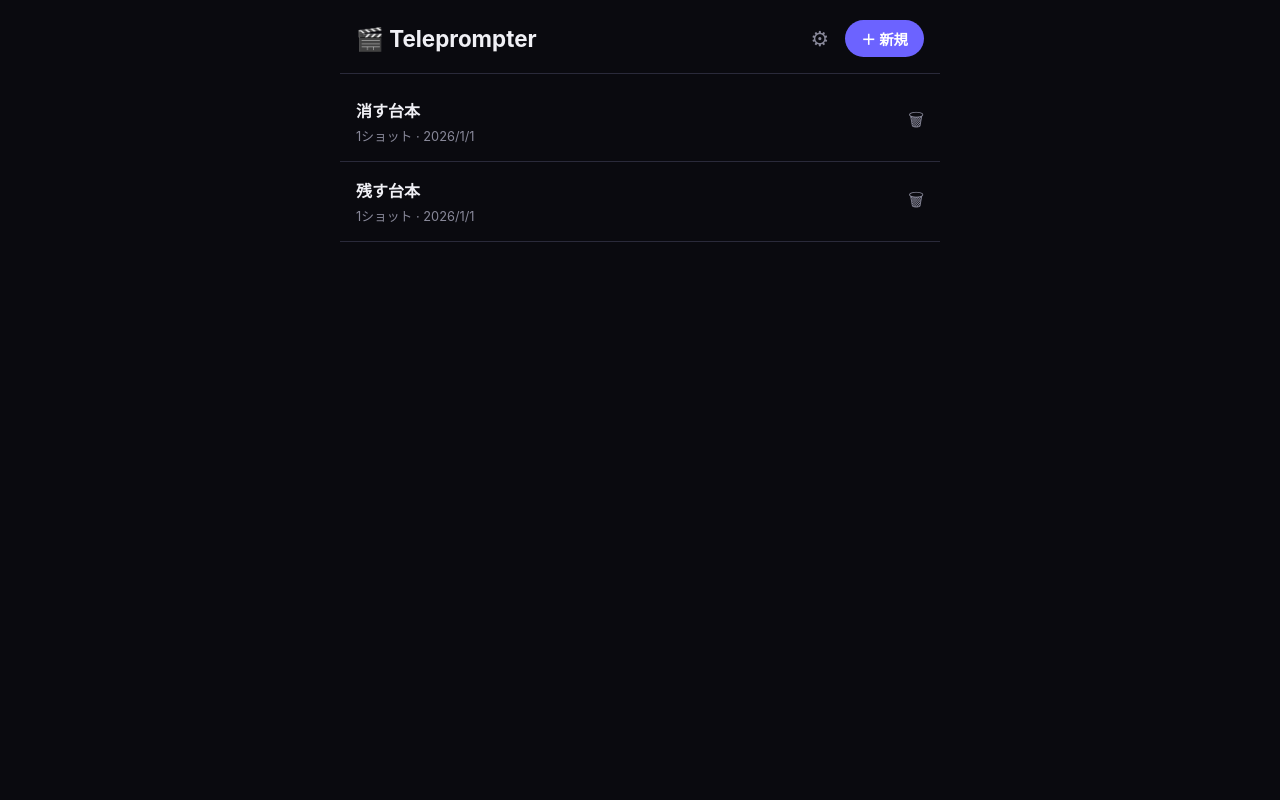
HomePage: deleting a script › takes the script off the list at once, with 元に戻す, and deletes nothing yet
Click the button named "削除" at {"x": 916, "y": 122}, box [892,90,940,152]
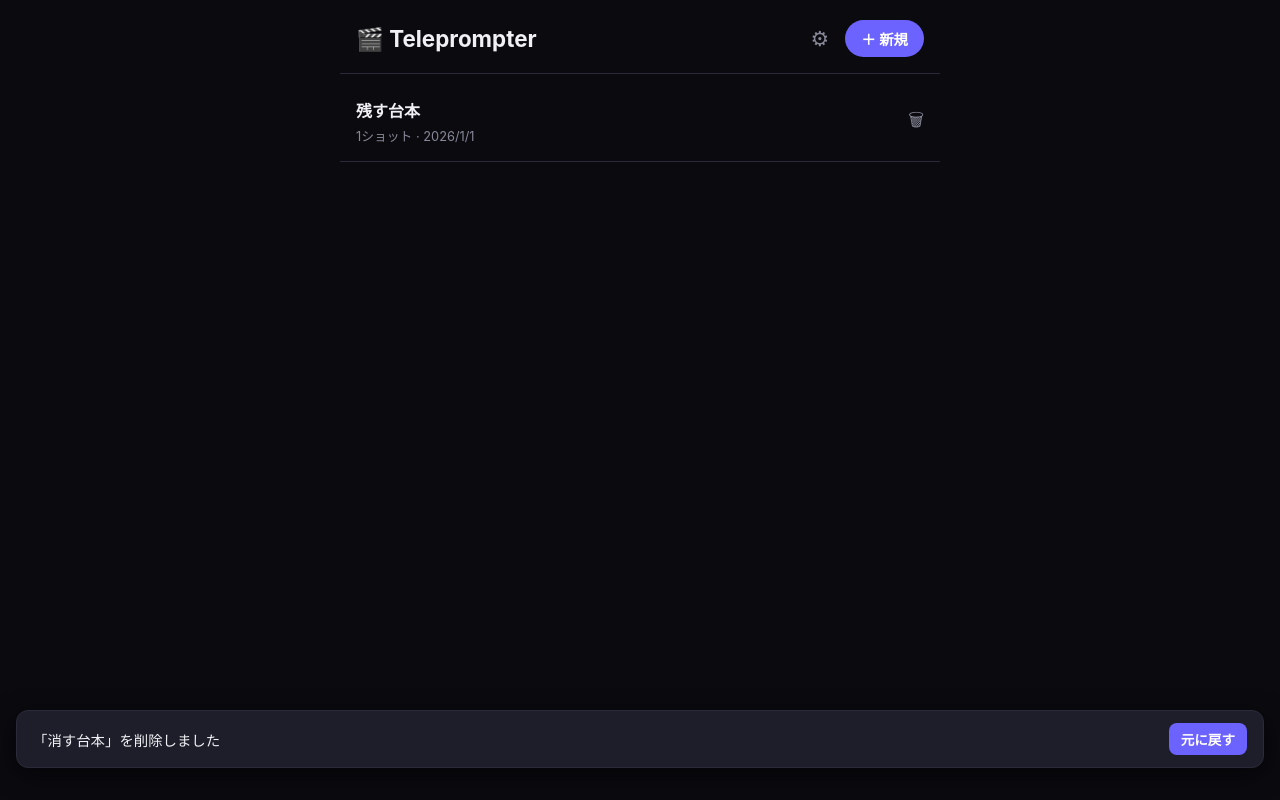
Check: the text "残す台本" is shown, box [356,98,420,122]
Check: the message shows "「消す台本」を削除しました", box [16,710,1264,768]
